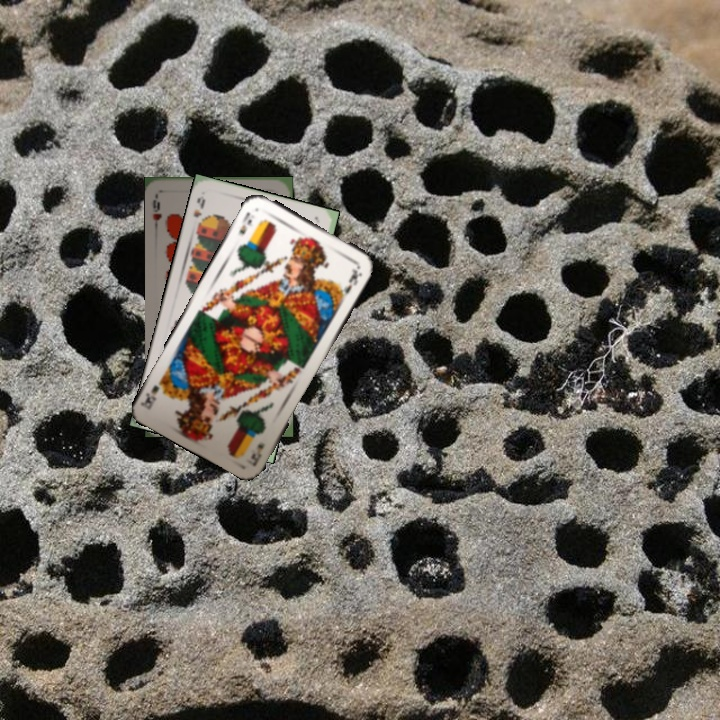EK: (247, 439, 267, 467), (235, 208, 254, 237)
H9: (149, 192, 164, 232)
S9: (189, 193, 208, 231)
